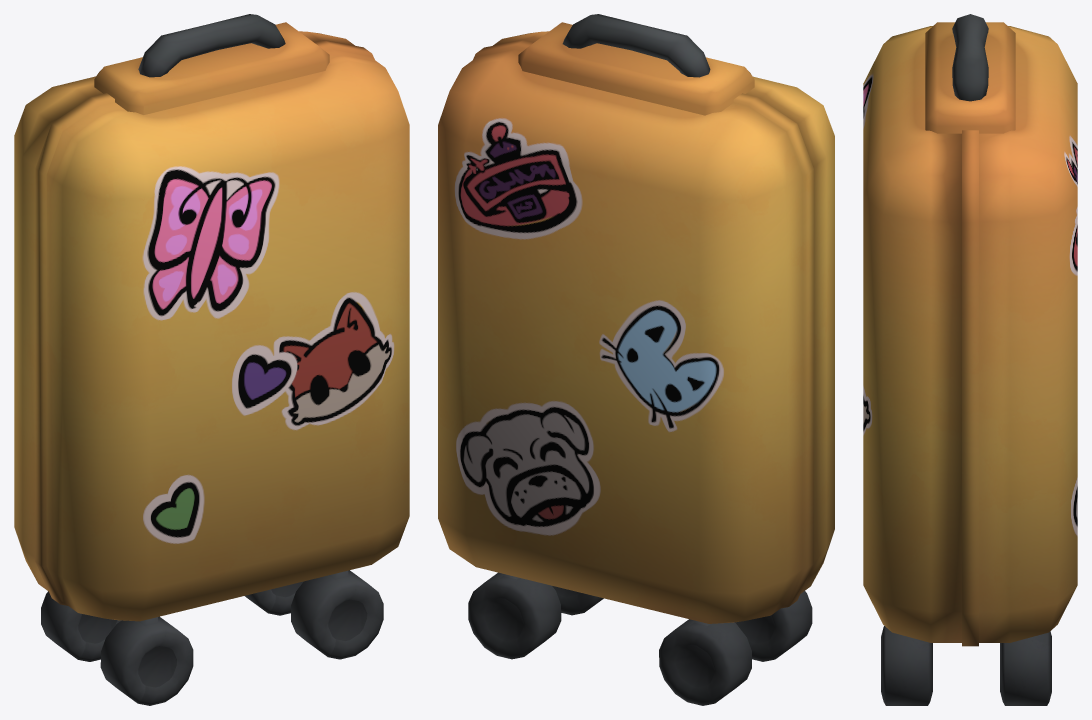
File: suitcase_kid.fbx
The picture shows the model from 3 angles, left to right: view 1: azimuth 30°, elevation 25°; view 2: azimuth 150°, elevation 25°; view 3: azimuth 270°, elevation 25°; orthographic projection.
Visible parts, largest first — view 1: suitcase_kid; view 2: suitcase_kid; view 3: suitcase_kid.
Boxes of the visible parts, <box> form: suitcase_kid: <box>14,14,409,705</box>; suitcase_kid: <box>438,14,834,705</box>; suitcase_kid: <box>863,14,1077,705</box>.
Size of the model in its own units: 200 by 108 by 345.
